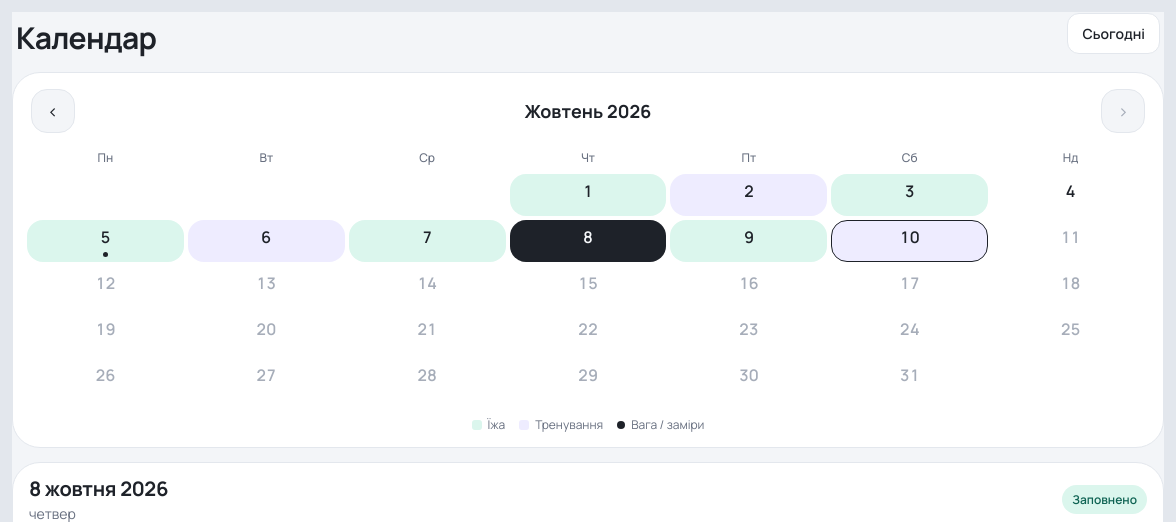
Test: CalendarScreen › a focused › that brings back the current month hands its focus to ‹
The image size is (1176, 522).
Click the button named "Попередній місяць" at (53, 111), box [31,89,75,133]
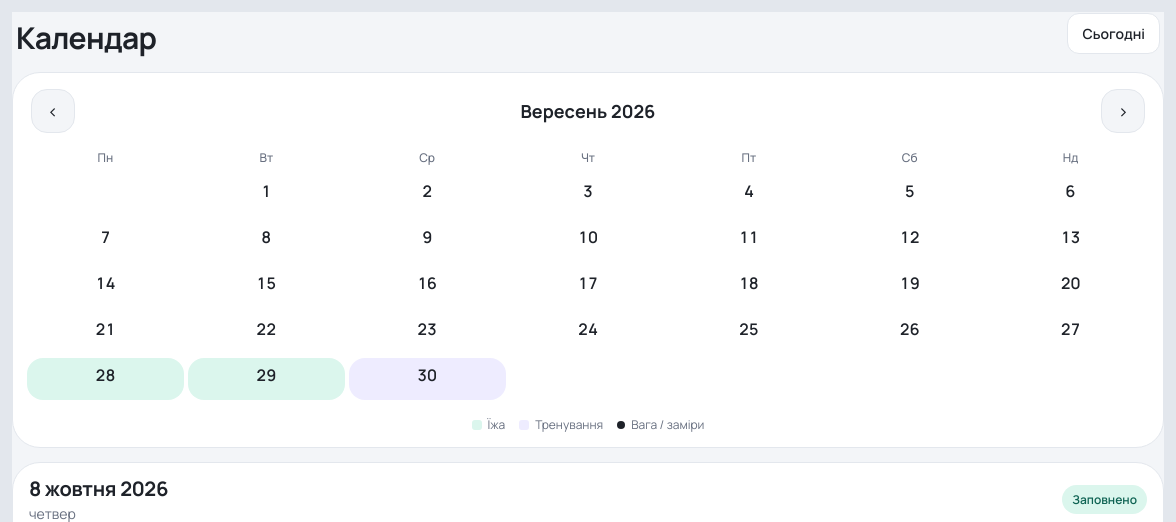
Click the button named "Попередній місяць" at (53, 111), box [31,89,75,133]
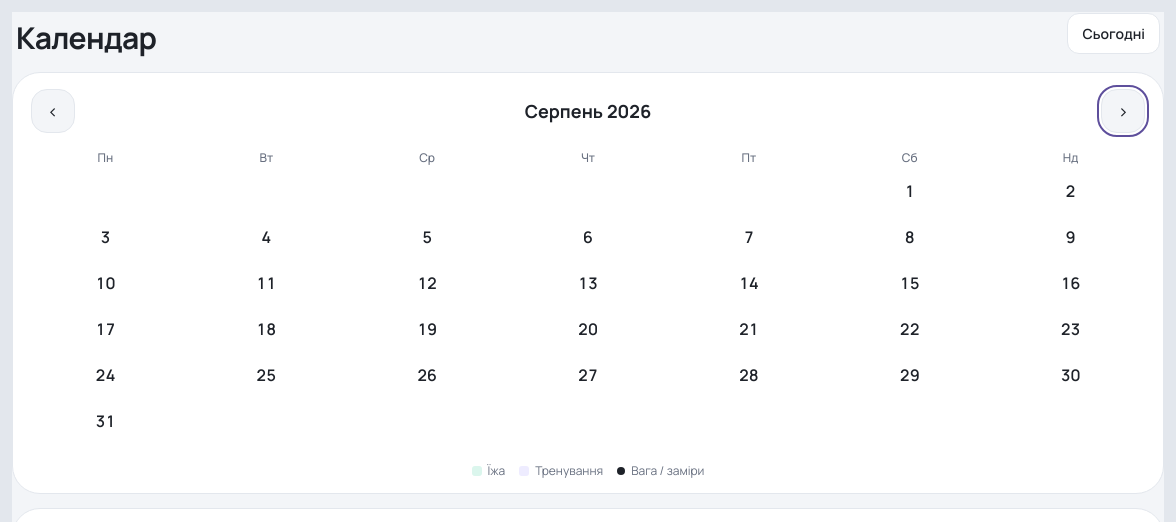
expect the heading "Серпень 2026" is shown: met, box [525,99,651,123]
Click the button named "Наступний місяць" at (1123, 111), box [1101,89,1145,133]
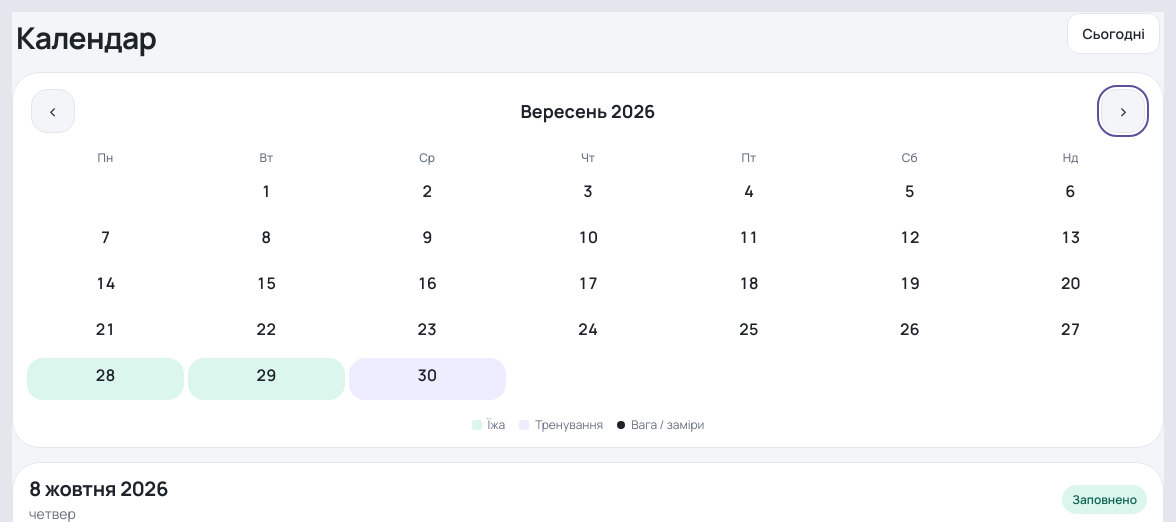
expect the button named "Наступний місяць" is enabled: met
expect the heading "Вересень 2026" is shown: met, box [520,99,656,123]
Note: Into October (the current month): › turns disabled, ‹ takes the focus.
Click the button named "Наступний місяць" at (1123, 111), box [1101,89,1145,133]
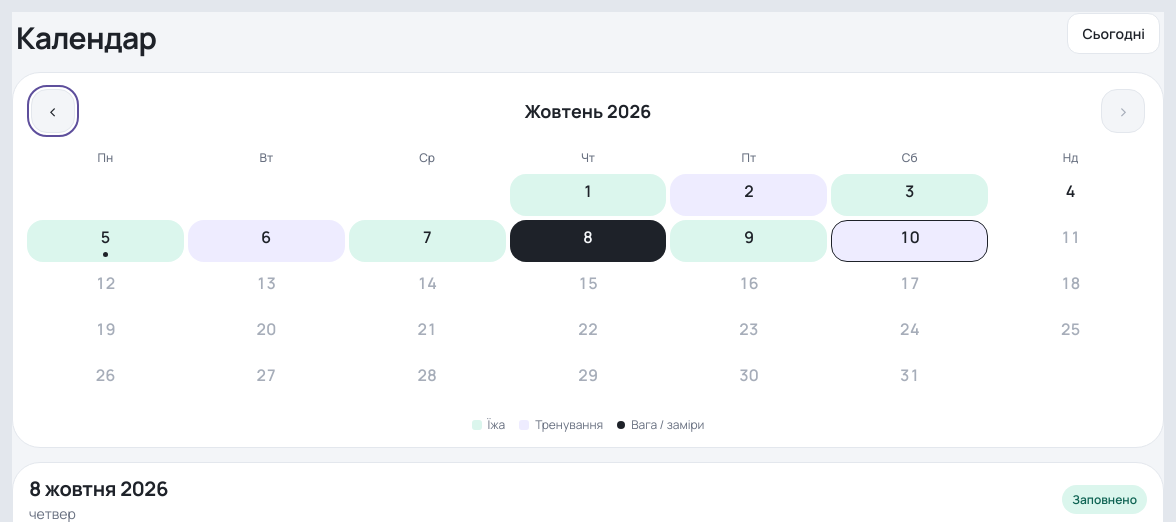
expect the heading "Жовтень 2026" is shown: met, box [524,99,652,123]
expect the button named "Наступний місяць" is disabled: met, box [1101,89,1145,133]
